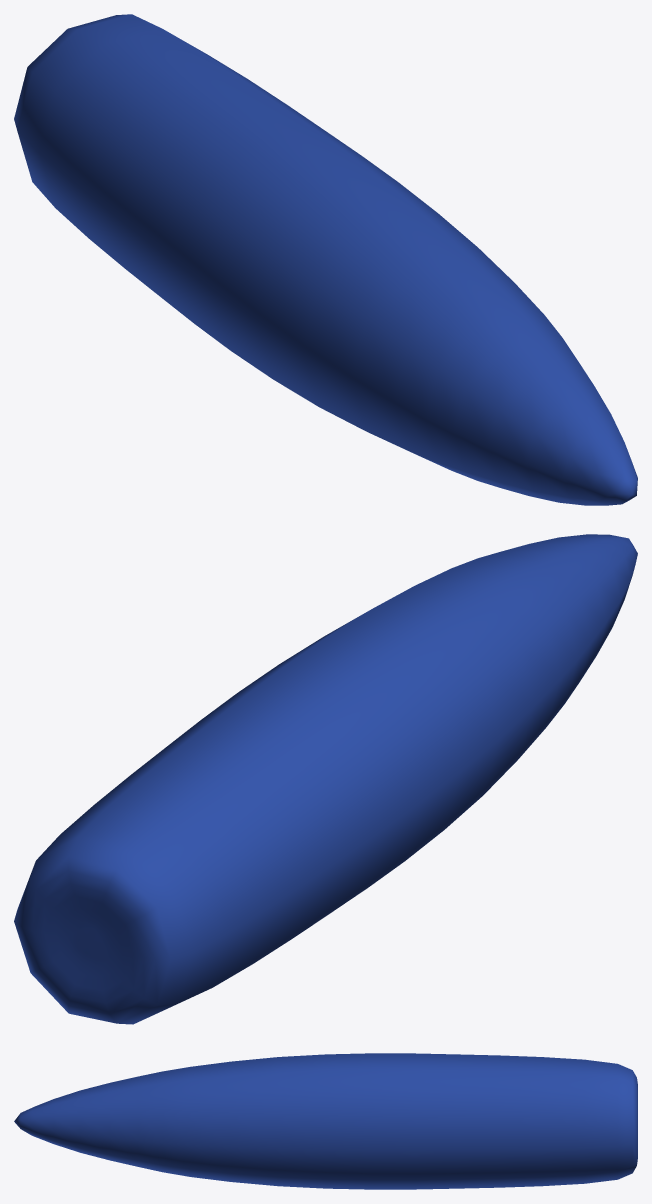
File: SMGAmmoBlue.fbx
3 views of the same model, one above another, from view 1: azimuth 30°, elevation 25°; view 2: azimuth 150°, elevation 25°; view 3: azimuth 270°, elevation 25° (orthographic). The views are drawn at different scales.
Parts seen in each view (by area): view 1: SMGAmmo; view 2: SMGAmmo; view 3: SMGAmmo.
Part boxes in pixels (x1,y1,x2,y2): SMGAmmo: (14,14,637,505); SMGAmmo: (14,534,637,1024); SMGAmmo: (14,1053,637,1189).
Size of the model in its own units: 0.7693 by 0.7398 by 3.49.
